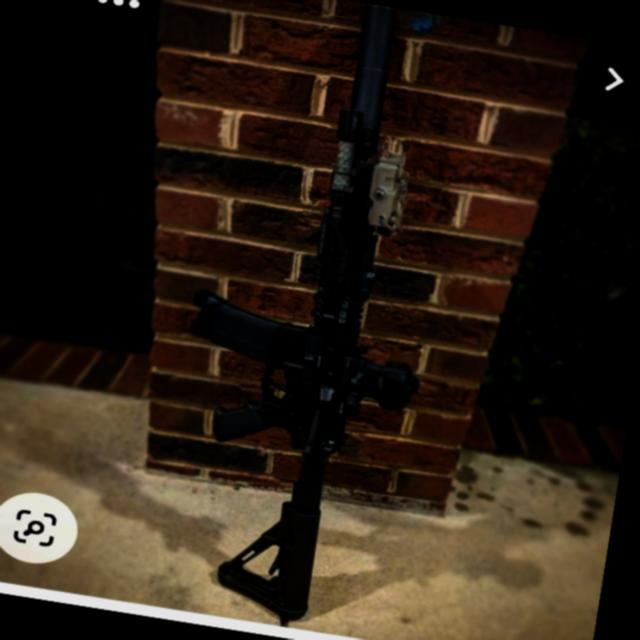m16: (79, 0, 561, 640)
